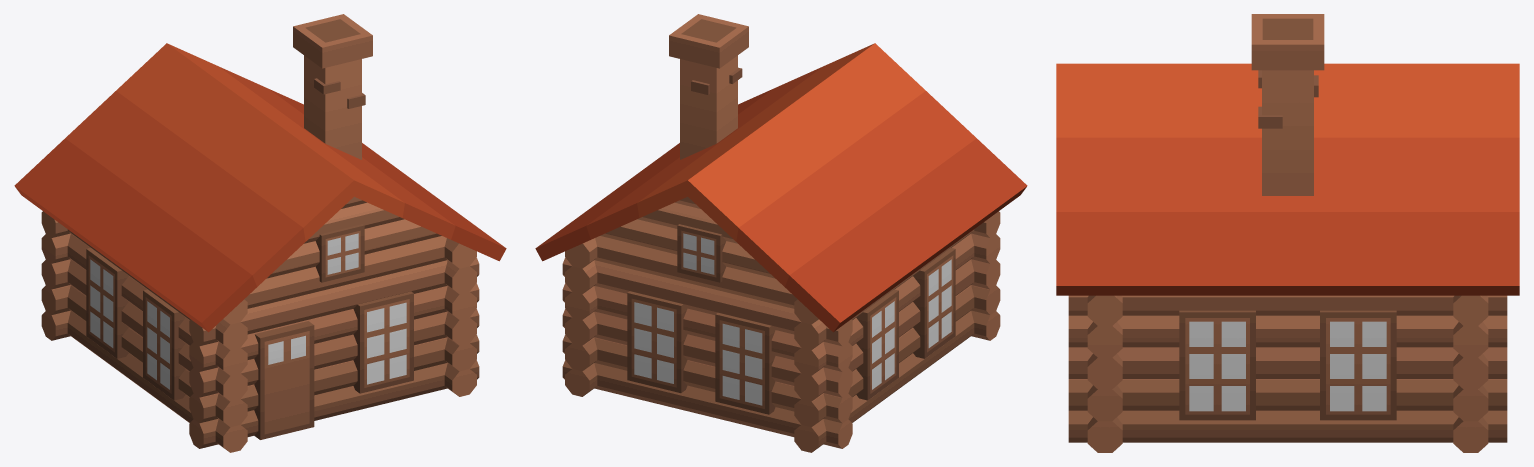
The model's file is wooden_house_2.glb.
3 views of the same model, side by side, from view 1: azimuth 30°, elevation 25°; view 2: azimuth 150°, elevation 25°; view 3: azimuth 270°, elevation 25° (orthographic). The views are drawn at different scales.
Visible parts, largest first — view 1: wooden_house_2; view 2: wooden_house_2; view 3: wooden_house_2.
Part boxes in pixels (box(x1,y1,x2,y2)): wooden_house_2: box(14, 14, 506, 452); wooden_house_2: box(535, 14, 1027, 452); wooden_house_2: box(1056, 14, 1519, 452).
Size of the model in its own units: 5.34 by 5.2 by 5.69.
Materials: 1 (1 with a texture image).
